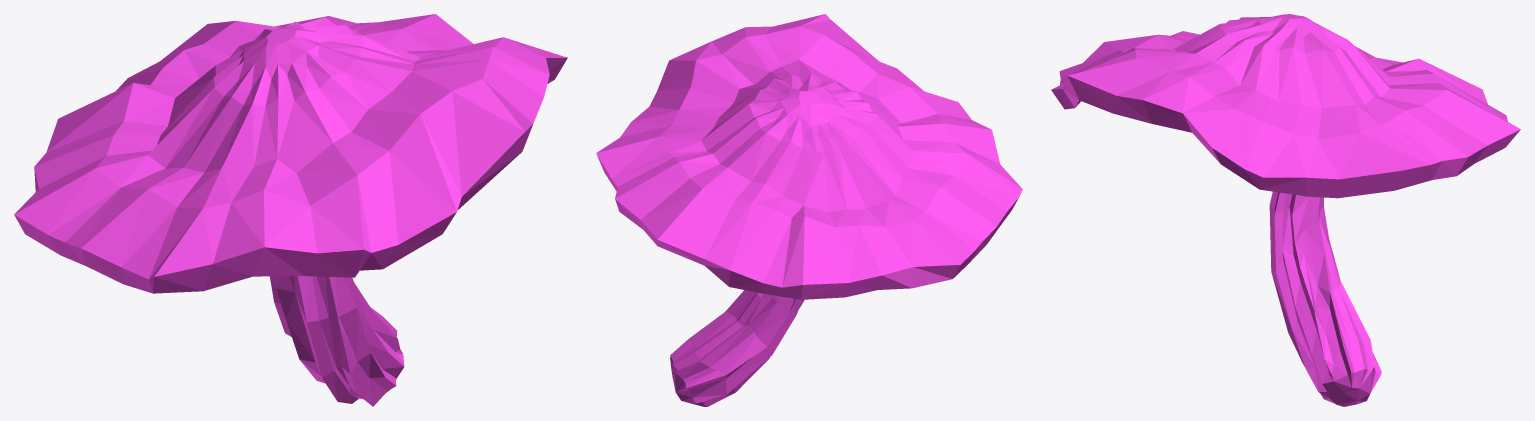
The model's file is SM_Mushroom_Glow_Giant_B_Fantasy.fbx.
3 renders of one model, left to right at view 1: azimuth 30°, elevation 25°; view 2: azimuth 150°, elevation 25°; view 3: azimuth 270°, elevation 25°, orthographic. The views are drawn at different scales.
Visible parts, largest first — view 1: SM_Mushroom_Glow_Giant_B_Fantasy; view 2: SM_Mushroom_Glow_Giant_B_Fantasy; view 3: SM_Mushroom_Glow_Giant_B_Fantasy.
Part boxes in pixels (x1=…): SM_Mushroom_Glow_Giant_B_Fantasy: x1=14, y1=14, x2=567, y2=406; SM_Mushroom_Glow_Giant_B_Fantasy: x1=596, y1=14, x2=1022, y2=406; SM_Mushroom_Glow_Giant_B_Fantasy: x1=1051, y1=14, x2=1520, y2=406.
Bounding box in the file's own units: 10.25 × 8.73 × 10.74.
